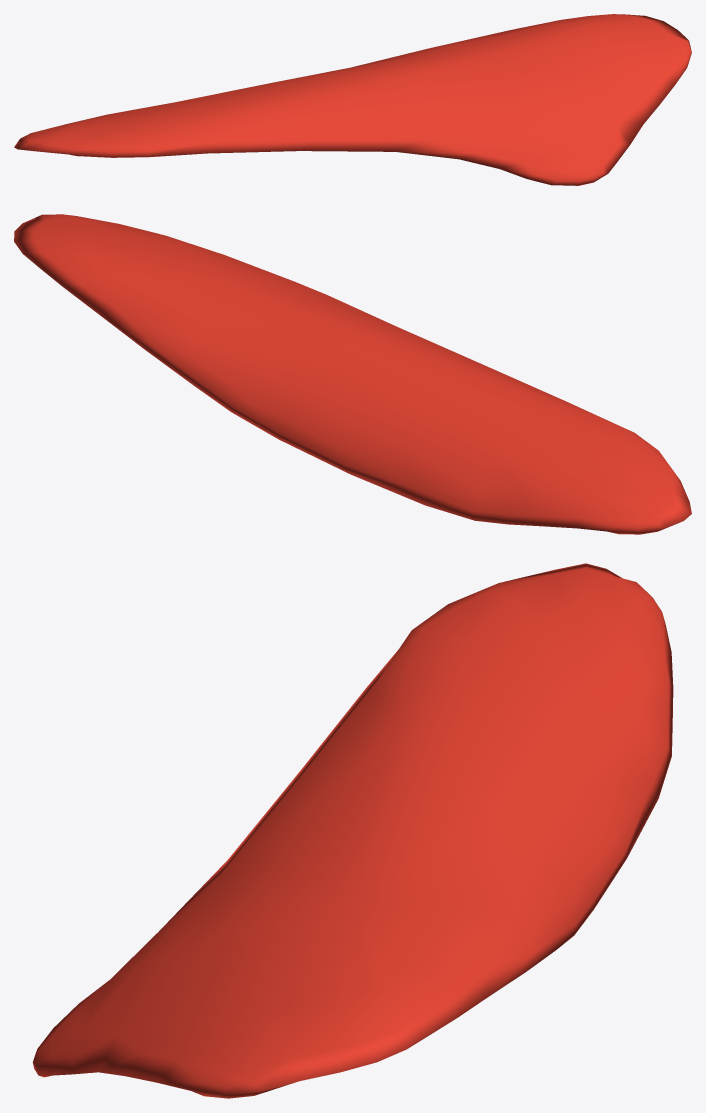
The model's file is Sternocleidomastoid_clavicular_insertion_right.glb.
3 renders of one model, top to bottom at view 1: azimuth 30°, elevation 25°; view 2: azimuth 150°, elevation 25°; view 3: azimuth 270°, elevation 25°, orthographic. The views are drawn at different scales.
Visible parts, largest first — view 1: Sternocleidomastoid_muscle-Clavicular_insertion.r_Cone.005; view 2: Sternocleidomastoid_muscle-Clavicular_insertion.r_Cone.005; view 3: Sternocleidomastoid_muscle-Clavicular_insertion.r_Cone.005.
Part boxes in pixels (<box>): Sternocleidomastoid_muscle-Clavicular_insertion.r_Cone.005: <box>14,14,691,185</box>; Sternocleidomastoid_muscle-Clavicular_insertion.r_Cone.005: <box>14,214,691,534</box>; Sternocleidomastoid_muscle-Clavicular_insertion.r_Cone.005: <box>32,563,673,1098</box>.
Size of the model in its own units: 0.0273 by 0.00353 by 0.0128.
